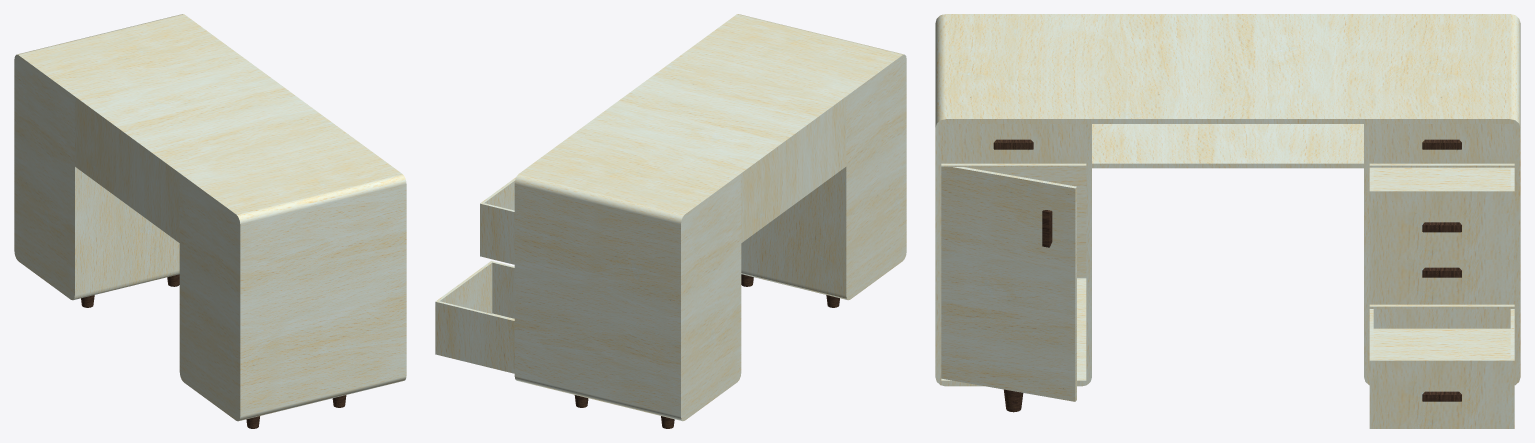
File: desk2022.glb
3 views of the same model, side by side, from view 1: azimuth 30°, elevation 25°; view 2: azimuth 150°, elevation 25°; view 3: azimuth 270°, elevation 25° (orthographic). The views are drawn at different scales.
Parts seen in each view (by area): view 1: desk_out6; view 2: desk_out6, rightDrawer13, rightDrawer11; view 3: desk_out6, leftStorage2, rightDrawer13, rightDrawer11, rightDrawer12, leftDrawer2, rightDrawer10.
Boxes of the visible parts, bbox=[...] form: desk_out6: bbox=[14, 14, 406, 421]; desk_out6: bbox=[514, 14, 906, 421]; rightDrawer13: bbox=[435, 261, 514, 373]; rightDrawer11: bbox=[480, 177, 516, 264]; desk_out6: bbox=[935, 14, 1520, 386]; leftStorage2: bbox=[941, 167, 1076, 401]; rightDrawer13: bbox=[1369, 309, 1514, 428]; rightDrawer11: bbox=[1369, 167, 1514, 259]; rightDrawer12: bbox=[1369, 259, 1514, 304]; leftDrawer2: bbox=[941, 124, 1086, 163]; rightDrawer10: bbox=[1369, 124, 1514, 163].
Size of the model in its own units: 0.8224 by 0.75 by 1.27.
2 materials, 2 textured.
